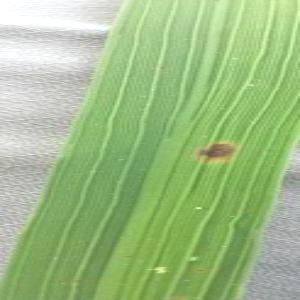0 BrownSpot: (191, 134, 243, 169)
